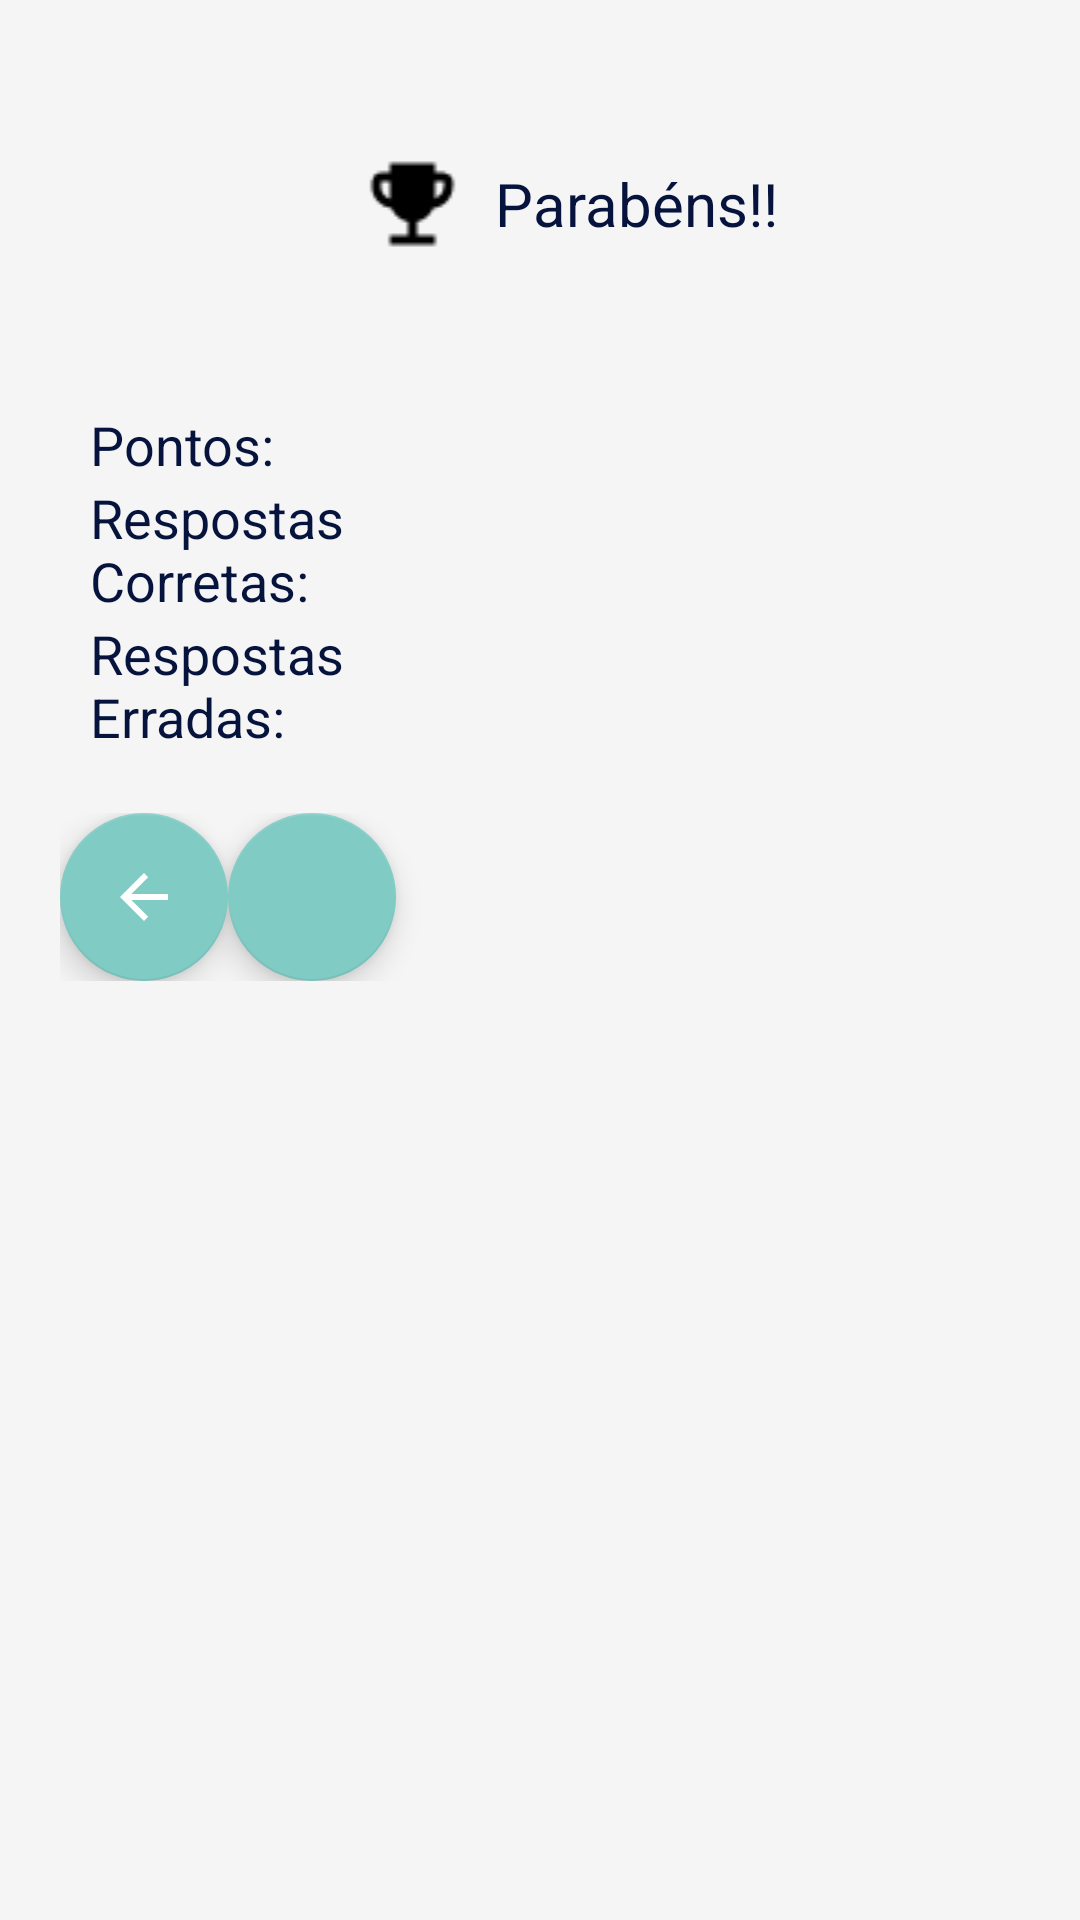

Icons on this 1080x1920 Android screen, each with its box as [x1=x1, y1=y1, x2=x2, y2=y2]:
emoji events: [x1=370, y1=161, x2=455, y2=247]
